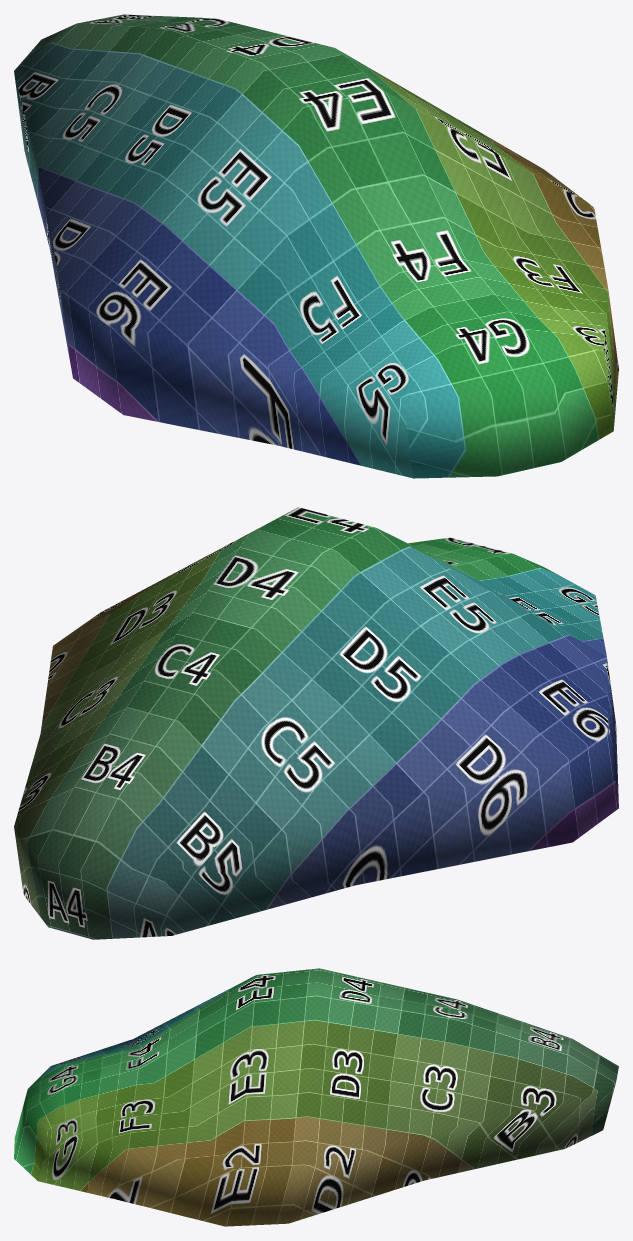
The model's file is scale.glb.
3 renders of one model, top to bottom at view 1: azimuth 30°, elevation 25°; view 2: azimuth 150°, elevation 25°; view 3: azimuth 270°, elevation 25°, orthographic. The views are drawn at different scales.
Visible parts, largest first — view 1: DragonScale; view 2: DragonScale; view 3: DragonScale.
Part boxes in pixels (x1=…): DragonScale: x1=14, y1=14, x2=618, y2=478; DragonScale: x1=14, y1=507, x2=618, y2=939; DragonScale: x1=14, y1=968, x2=618, y2=1226.
Size of the model in its own units: 2.98 by 1.46 by 4.79.
Materials: 1 (1 with a texture image).
